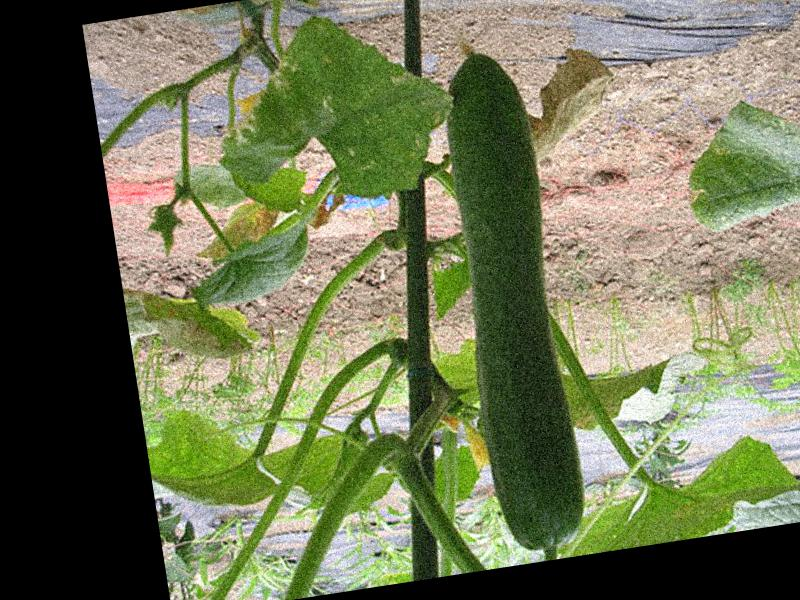Cucumber: (424, 34, 593, 555)
